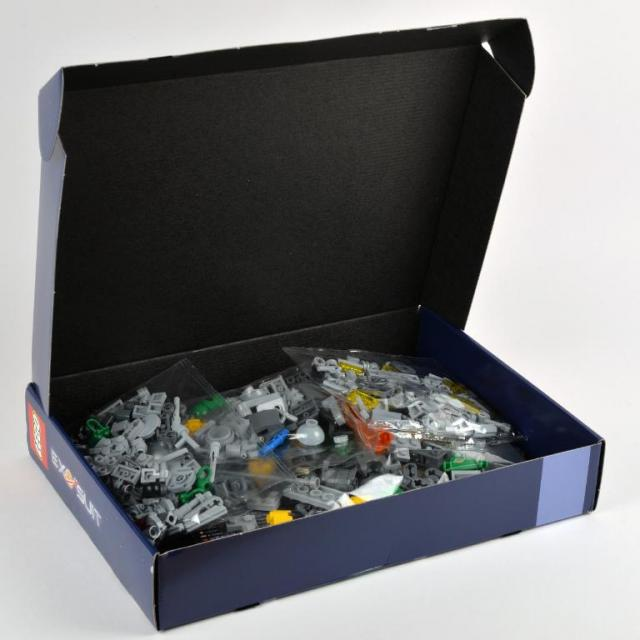Box: (26, 14, 604, 630)
